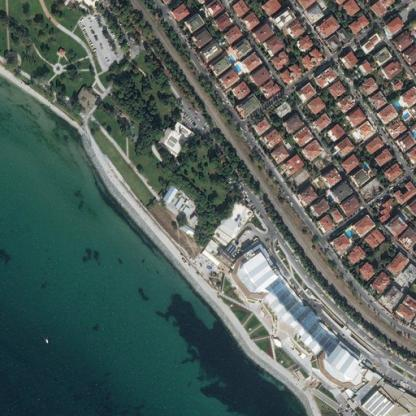ship: (41, 332, 51, 346)
